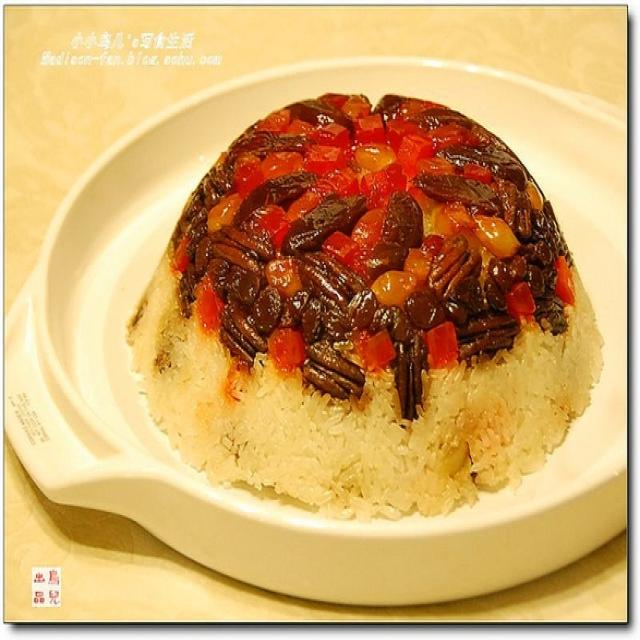米饭主食: (1, 60, 626, 618)
